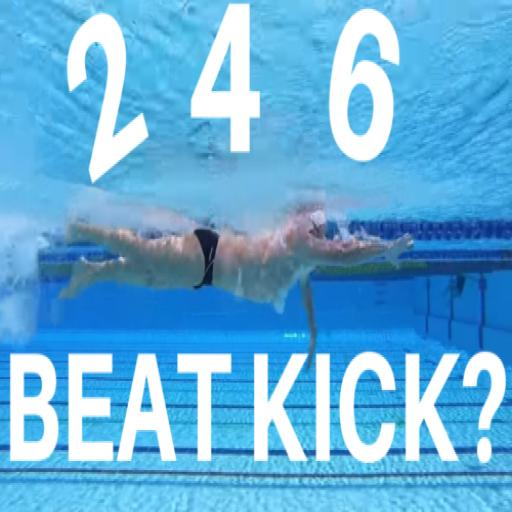swimming: (44, 197, 415, 368)
